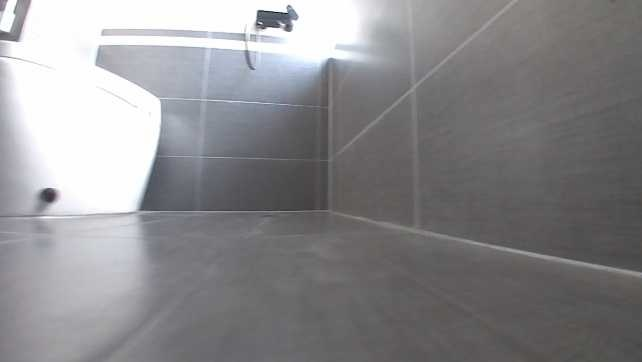toilet: (0, 40, 165, 216)
